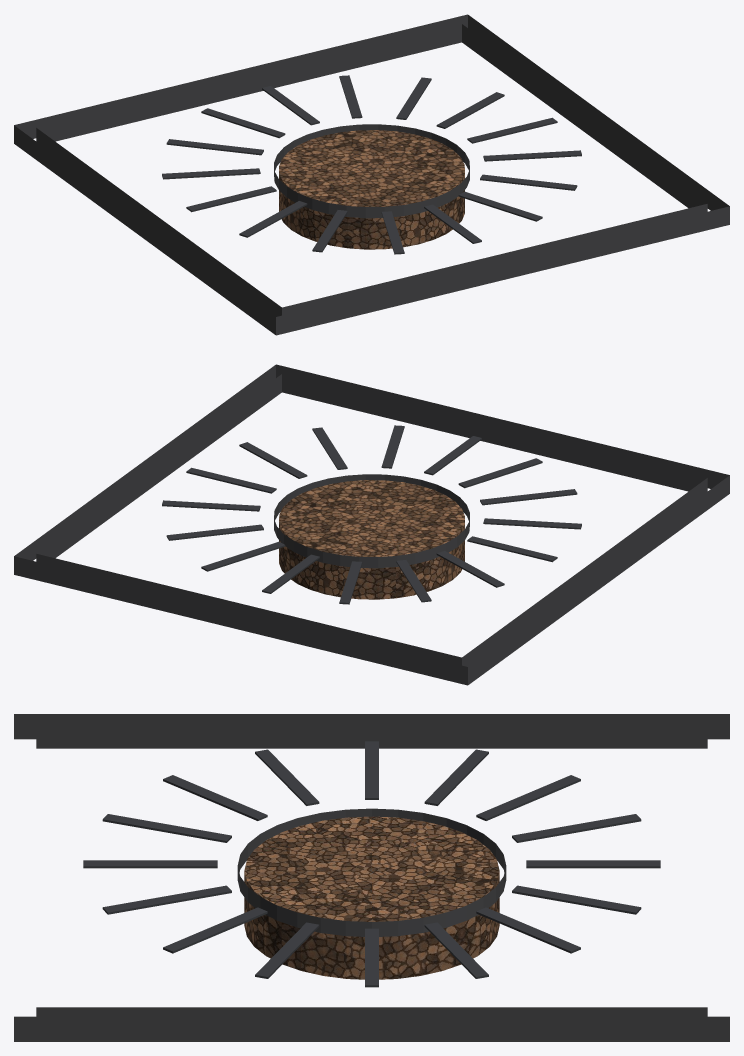
The picture shows the model from 3 angles, top to bottom: view 1: azimuth 30°, elevation 25°; view 2: azimuth 150°, elevation 25°; view 3: azimuth 270°, elevation 25°; orthographic projection. The views are drawn at different scales.
Visible parts, largest first — view 1: baseOffset=0;depth=1.2;height=0.03;material=cast_iron;power= (×3); view 2: baseOffset=0;depth=1.2;height=0.03;material=cast_iron;power= (×3); view 3: baseOffset=0;depth=1.2;height=0.03;material=cast_iron;power= (×3).
Boxes of the visible parts, box(x1,y1,x2,y2) form: baseOffset=0;depth=1.2;height=0.03;material=cast_iron;power= (×3): box(14, 14, 729, 335); baseOffset=0;depth=1.2;height=0.03;material=cast_iron;power= (×3): box(14, 364, 729, 685); baseOffset=0;depth=1.2;height=0.03;material=cast_iron;power= (×3): box(14, 714, 729, 1041).
Size of the model in its own units: 1.28 by 1.28 by 0.124.
3 materials, 1 textured.
